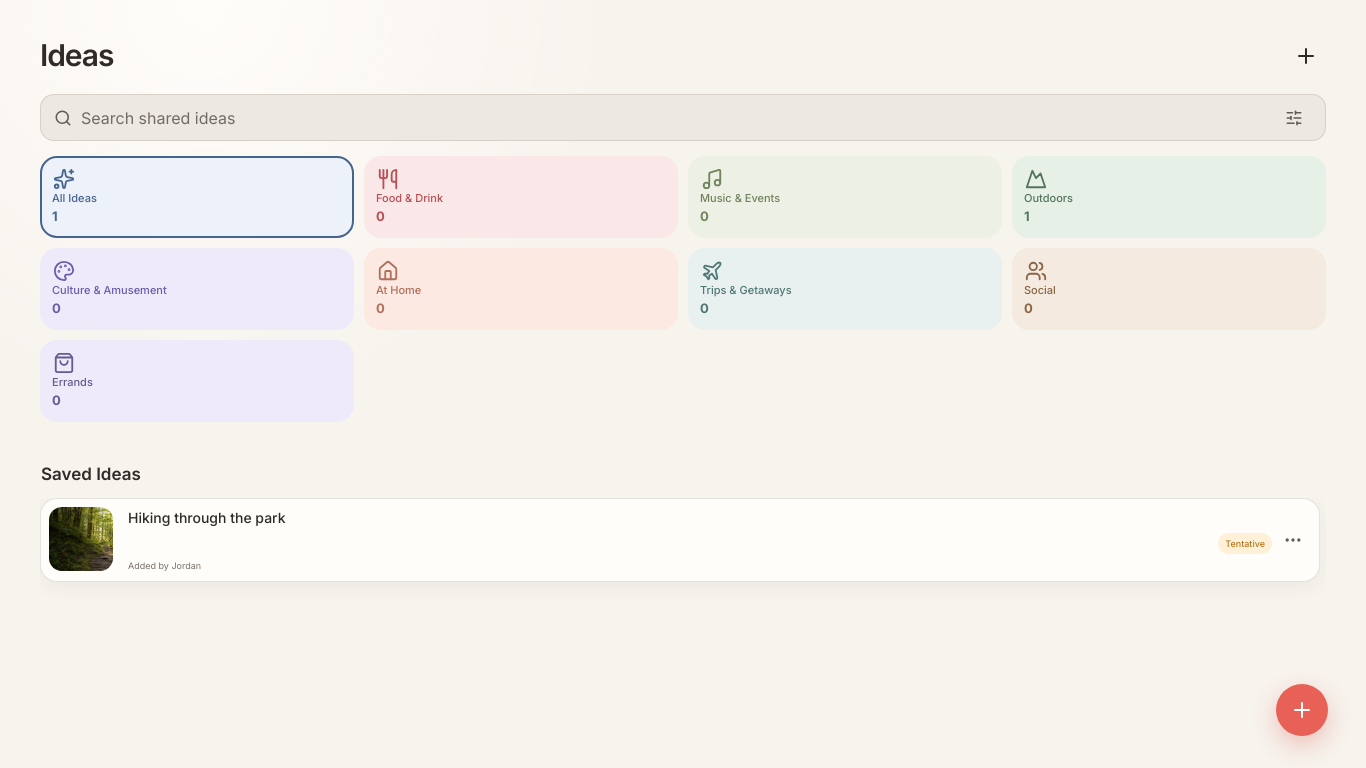
Test: Saved Idea cover rendering › preserves the existing card interaction
Click the button with aria-label "Edit Hiking through the park" at (81, 538), box [49, 506, 1272, 572]
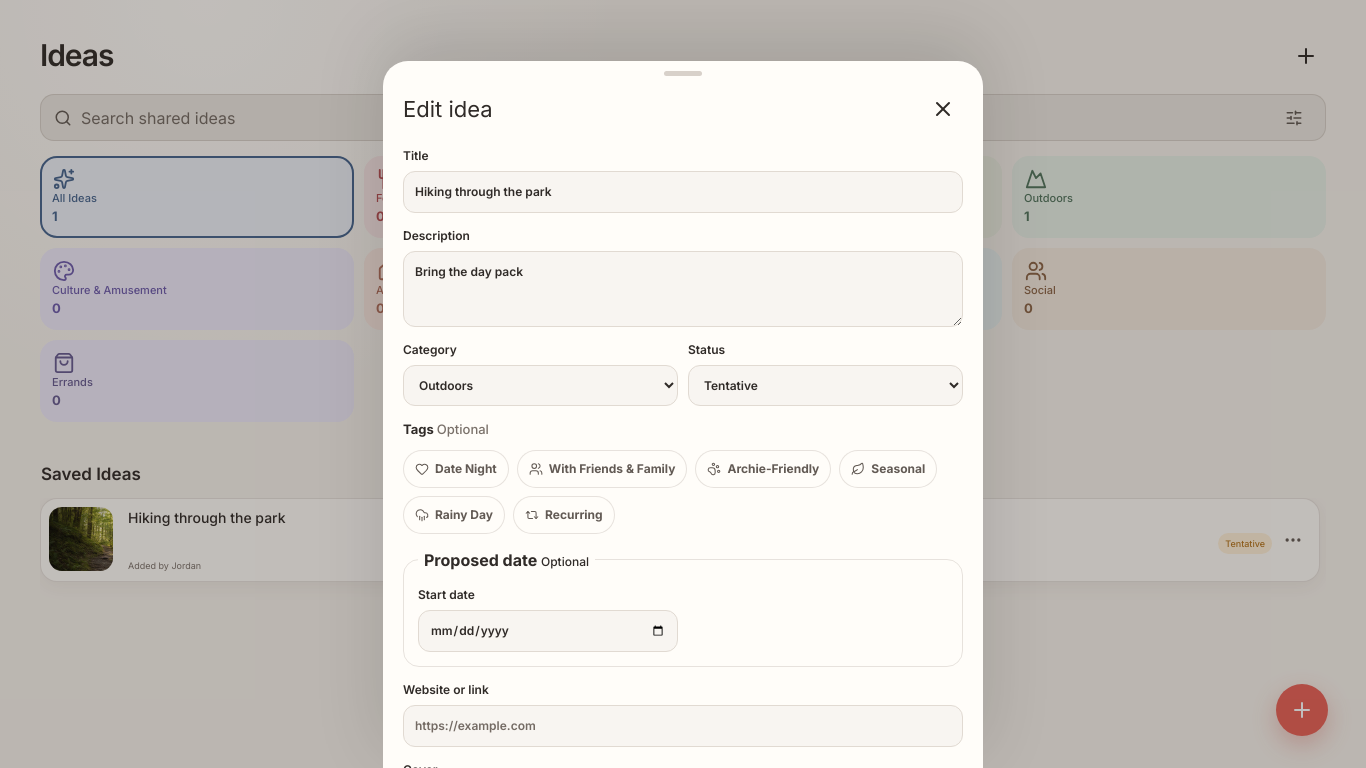
Now the dialog "Edit idea" is shown, box [383, 62, 983, 767]
